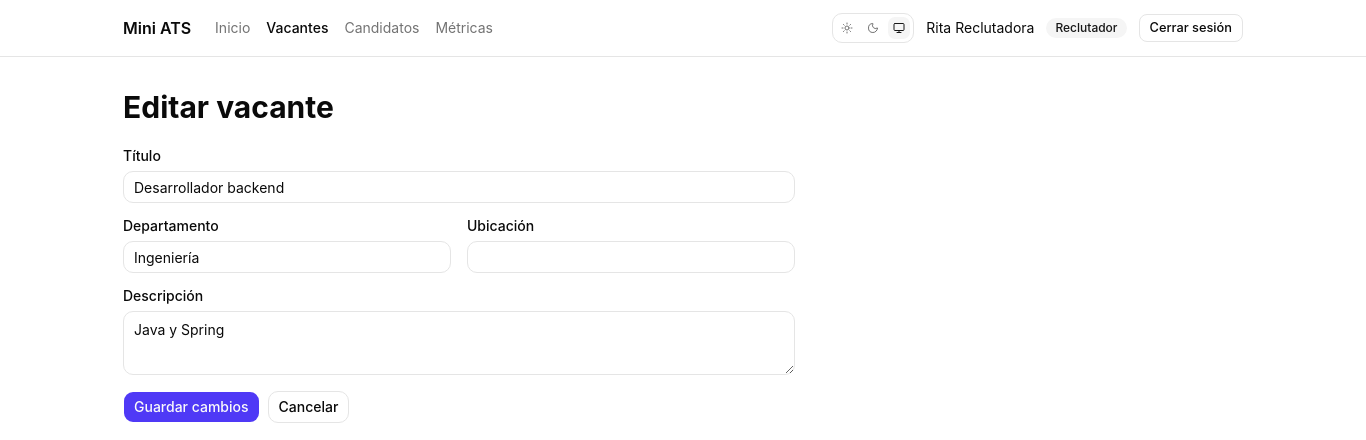
job form › edits a job loaded from the API
Expected: the field labelled "Departamento" holds "Ingeniería", [123,241,451,273]
Expected: the field labelled "Ubicación" is empty, [467,241,795,273]
Replace the text in the field labelled "Título" with "Desarrolladora backend" at (459, 187), box [123,171,795,203]
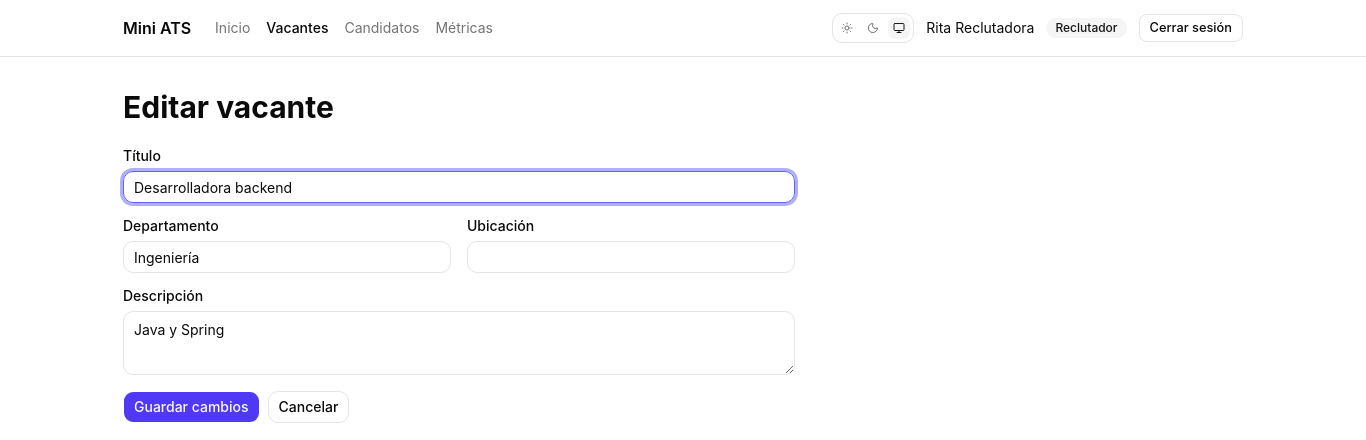
Click the button "Guardar cambios" at (191, 407), box [123,391,260,423]
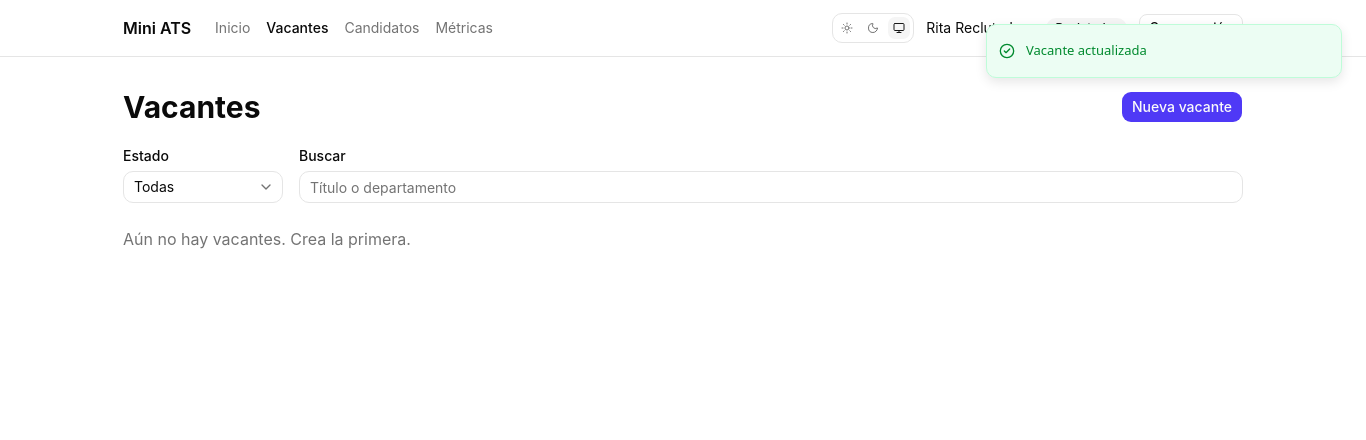
Expected: the text "Vacante actualizada" is shown, [1026,41,1147,60]
